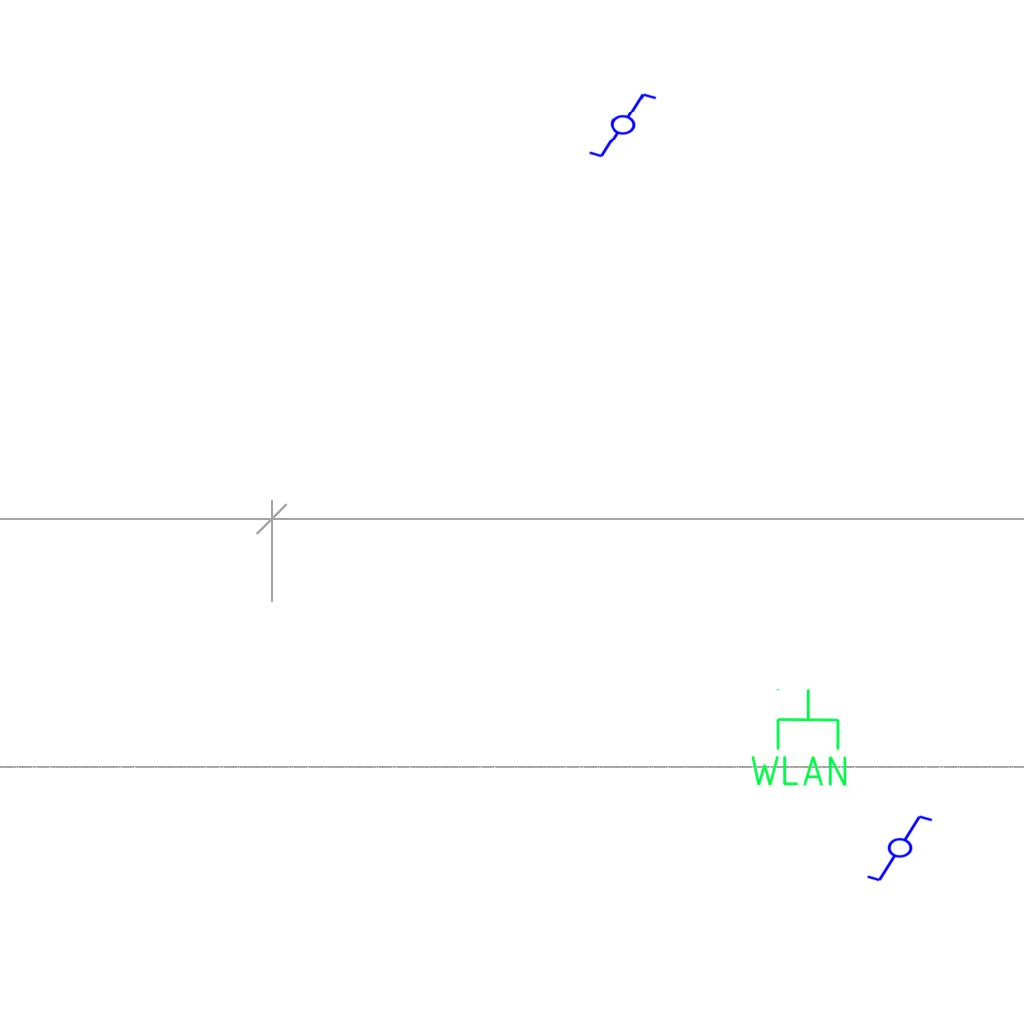WLAN: (746, 686, 851, 790)
Wechselschalter: (586, 88, 668, 164), (865, 813, 943, 885)
